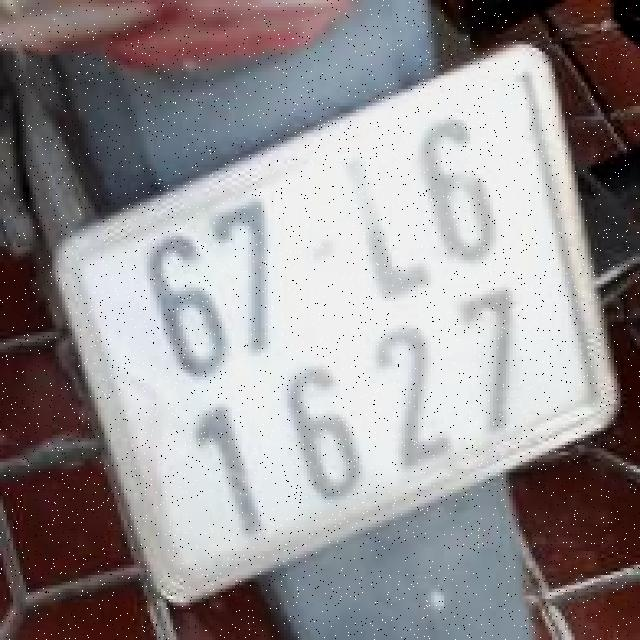1: (176, 387, 294, 555)
2: (349, 310, 468, 483)
6: (130, 218, 250, 398), (398, 97, 511, 277), (269, 351, 385, 515)
7: (191, 182, 305, 366), (444, 267, 555, 445)
L: (322, 122, 449, 321)
